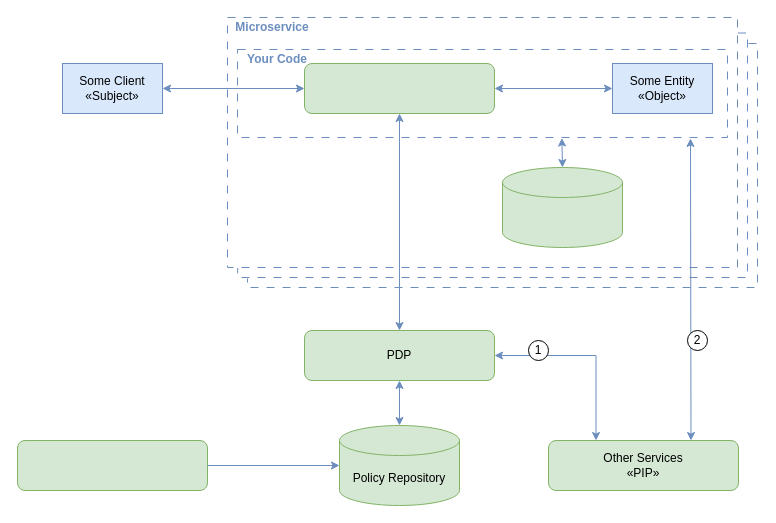
The diagram is 776 pixels wide and 523 high, and some of its shapes have lost their labels. The shapes that lost their labels are listed below. From the top down, each one's centre as x and y in pixels, then its label:
the point at 399,88: PEP
the point at 562,207: microservice DB «PIP»
the point at 112,465: PAP
